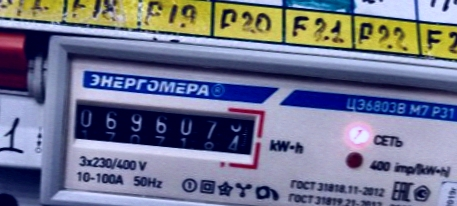0: (178, 112, 195, 135), (78, 105, 94, 127)
4: (226, 130, 241, 152)
6: (103, 106, 119, 128), (153, 111, 169, 133)
7: (202, 116, 219, 139)
9: (128, 109, 143, 131)
screen: (59, 86, 270, 166)
